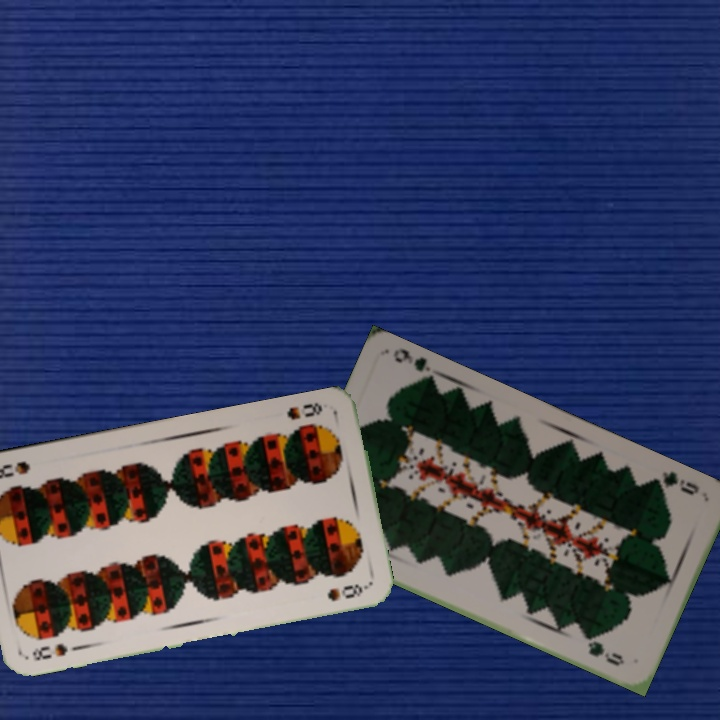G9: (648, 467, 702, 498)
S8: (283, 398, 325, 423), (28, 639, 71, 663)
